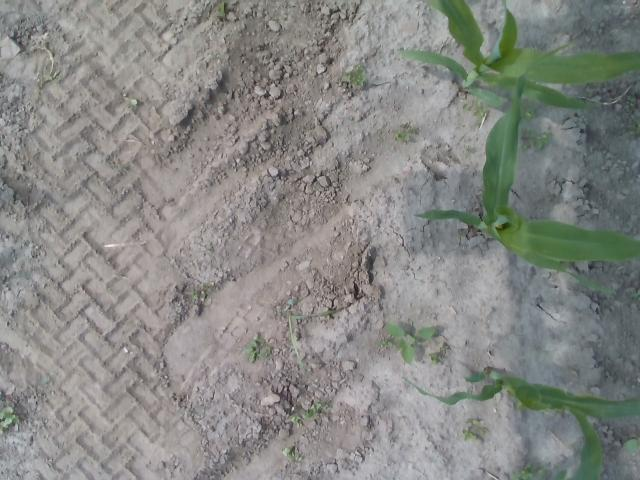Maize: (413, 38, 640, 296), (394, 0, 640, 118), (400, 366, 640, 424), (500, 405, 604, 480)
Weeds: (285, 306, 337, 384), (378, 322, 436, 365), (243, 332, 271, 364), (518, 126, 552, 150), (508, 463, 545, 480), (462, 418, 486, 442), (342, 64, 367, 86), (0, 406, 19, 434), (392, 123, 416, 141), (518, 100, 538, 121), (463, 99, 486, 116), (429, 342, 446, 364), (192, 284, 212, 300), (282, 446, 300, 462), (622, 436, 640, 452), (302, 404, 321, 418), (627, 116, 640, 136), (213, 1, 227, 18), (292, 414, 302, 428), (625, 95, 636, 104), (286, 298, 298, 305), (44, 74, 56, 80), (130, 98, 138, 107)
